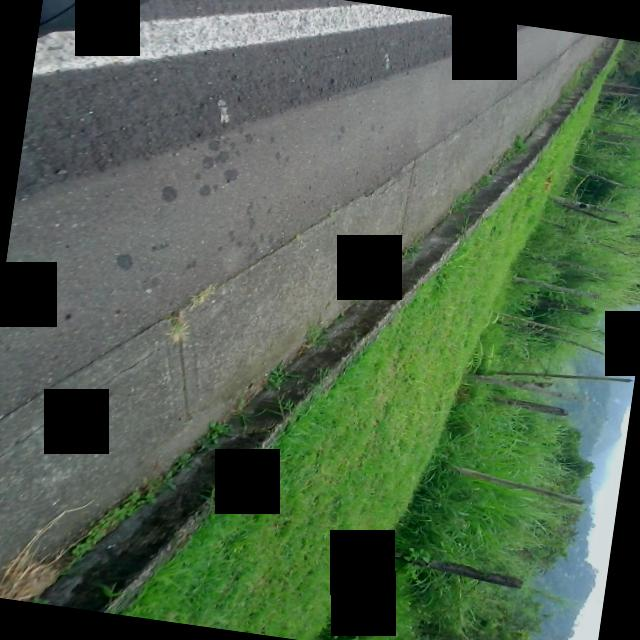DITCH: (0, 0, 626, 640), (0, 0, 614, 640), (0, 0, 576, 467)
